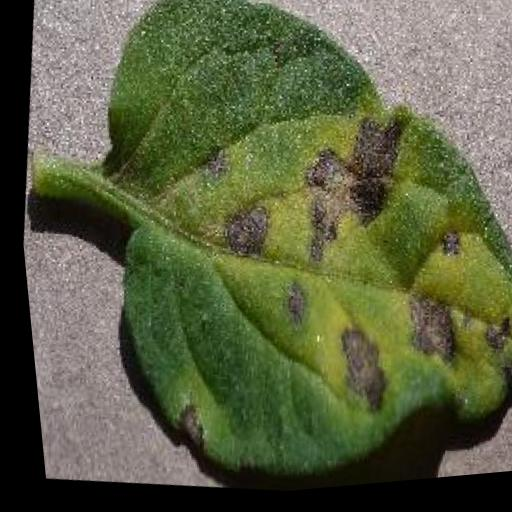Early Blight: (45, 0, 512, 509)
